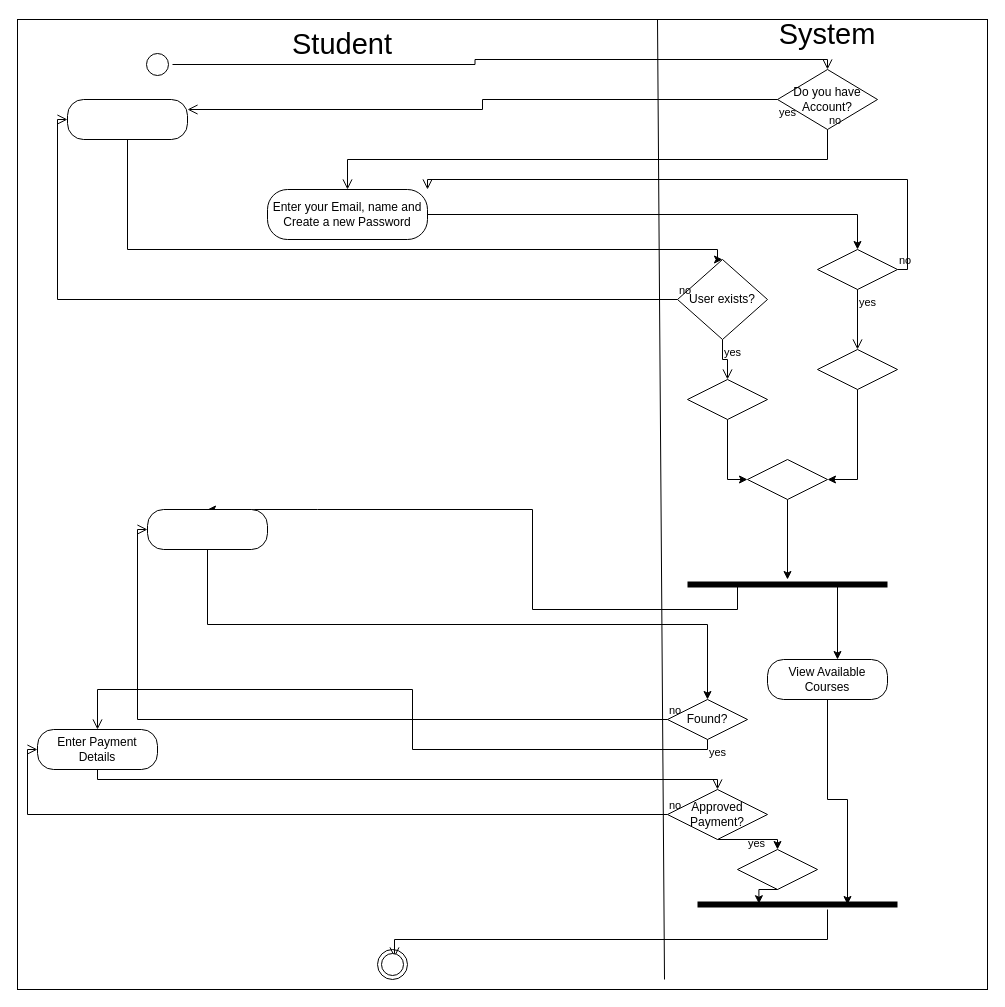
This 1005x1007 diagram has some shape labels left out. Here are the shapes that lost their labels. From the top down, the centre of each, then its label:
At point (127, 119): "Enter UserName,Password".
At point (857, 269): "valid input?".
At point (207, 529): "Enter The Course Name that you want to be Enrolled in".
